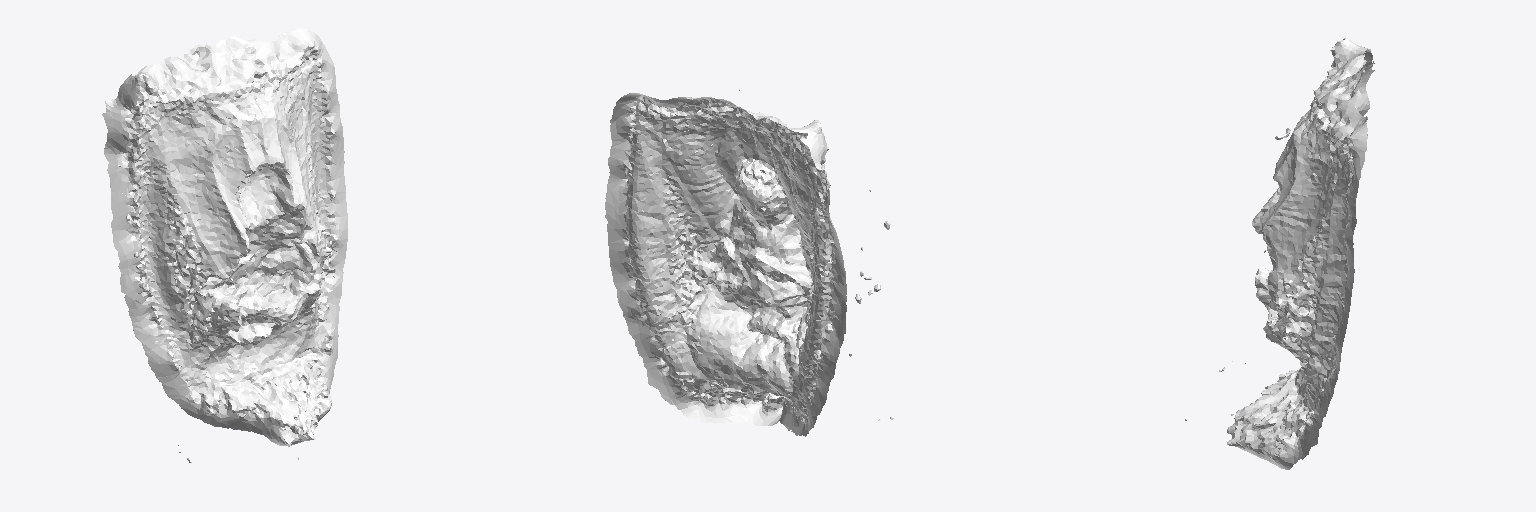
Rendered from reed.obj.
3 views of the same model, side by side, from view 1: azimuth 30°, elevation 25°; view 2: azimuth 150°, elevation 25°; view 3: azimuth 270°, elevation 25° (orthographic).
Size of the model in its own units: 19.66 by 27.63 by 12.88.